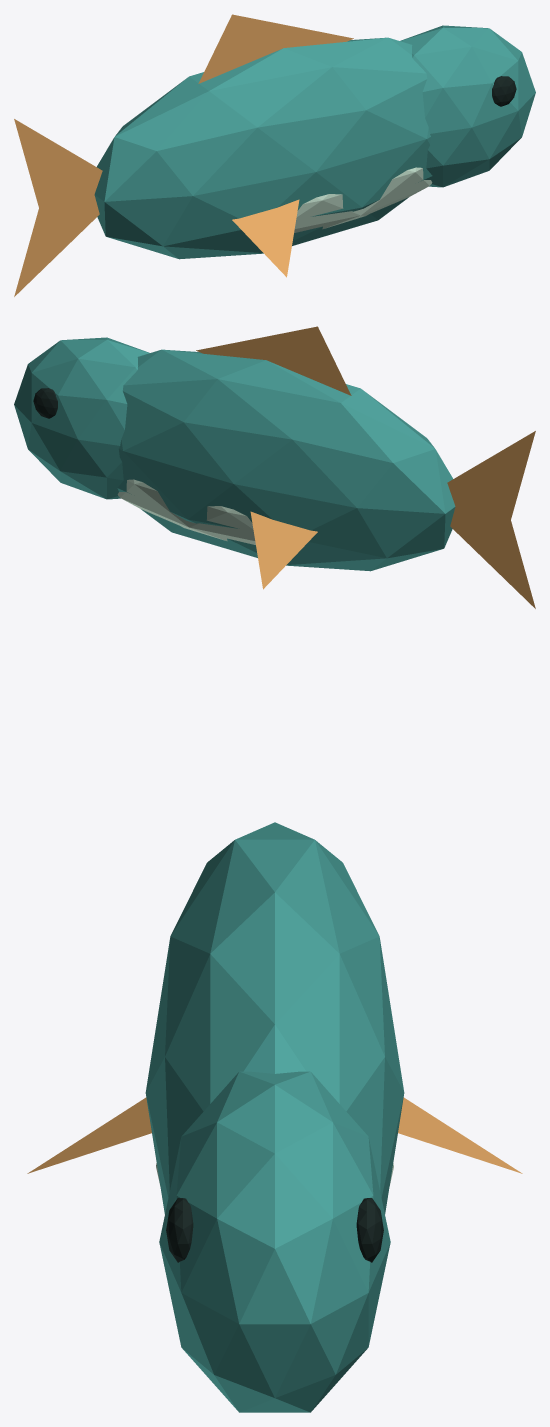
Rendered from resource_fish.glb.
The picture shows the model from 3 angles, top to bottom: view 1: azimuth 30°, elevation 25°; view 2: azimuth 150°, elevation 25°; view 3: azimuth 270°, elevation 25°; orthographic projection. The views are drawn at different scales.
Parts seen in each view (by area): view 1: Fish body, Head, Tail fin, Dorsal fin, Pale belly, Side fin.001, Eye.001; view 2: Fish body, Head, Tail fin, Dorsal fin, Pale belly, Side fin, Eye; view 3: Head, Fish body, Side fin, Side fin.001, Eye, Eye.001.
Boxes of the visible parts, x1,y1,x2,y2 form: Fish body: (94, 37, 432, 259); Head: (400, 25, 535, 187); Tail fin: (14, 119, 102, 296); Dorsal fin: (198, 14, 353, 83); Pale belly: (294, 167, 432, 232); Side fin.001: (232, 199, 299, 277); Eye.001: (492, 76, 516, 106); Fish body: (117, 349, 455, 571); Head: (14, 337, 149, 499); Tail fin: (447, 431, 535, 608); Dorsal fin: (196, 326, 351, 395); Pale belly: (117, 479, 255, 544); Side fin: (250, 511, 317, 589); Eye: (33, 388, 57, 418); Head: (159, 1071, 390, 1412); Fish body: (145, 822, 404, 1213); Side fin: (398, 1097, 522, 1173); Side fin.001: (27, 1097, 151, 1173); Eye: (356, 1198, 383, 1262); Eye.001: (166, 1198, 193, 1262).
Bounding box in the file's own units: 0.3481 × 0.16 × 0.146.
